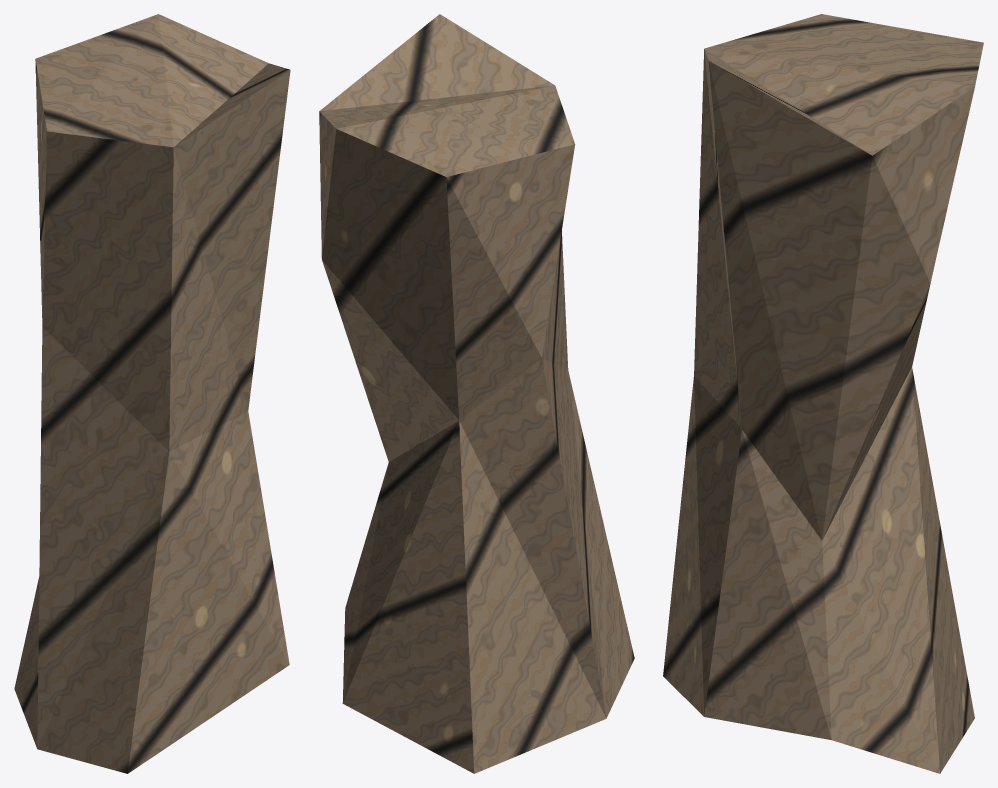
The model's file is ExportedBlenderFBXFile.fbx.
3 renders of one model, left to right at view 1: azimuth 30°, elevation 25°; view 2: azimuth 150°, elevation 25°; view 3: azimuth 270°, elevation 25°, orthographic. The views are drawn at different scales.
Parts seen in each view (by area): view 1: Stone01; view 2: Stone01; view 3: Stone01.
Boxes of the visible parts, x1,y1,x2,y2 form: Stone01: (14,14,290,773); Stone01: (319,14,634,773); Stone01: (663,14,983,773).
Size of the model in its own units: 1.53 by 3.68 by 1.44.
